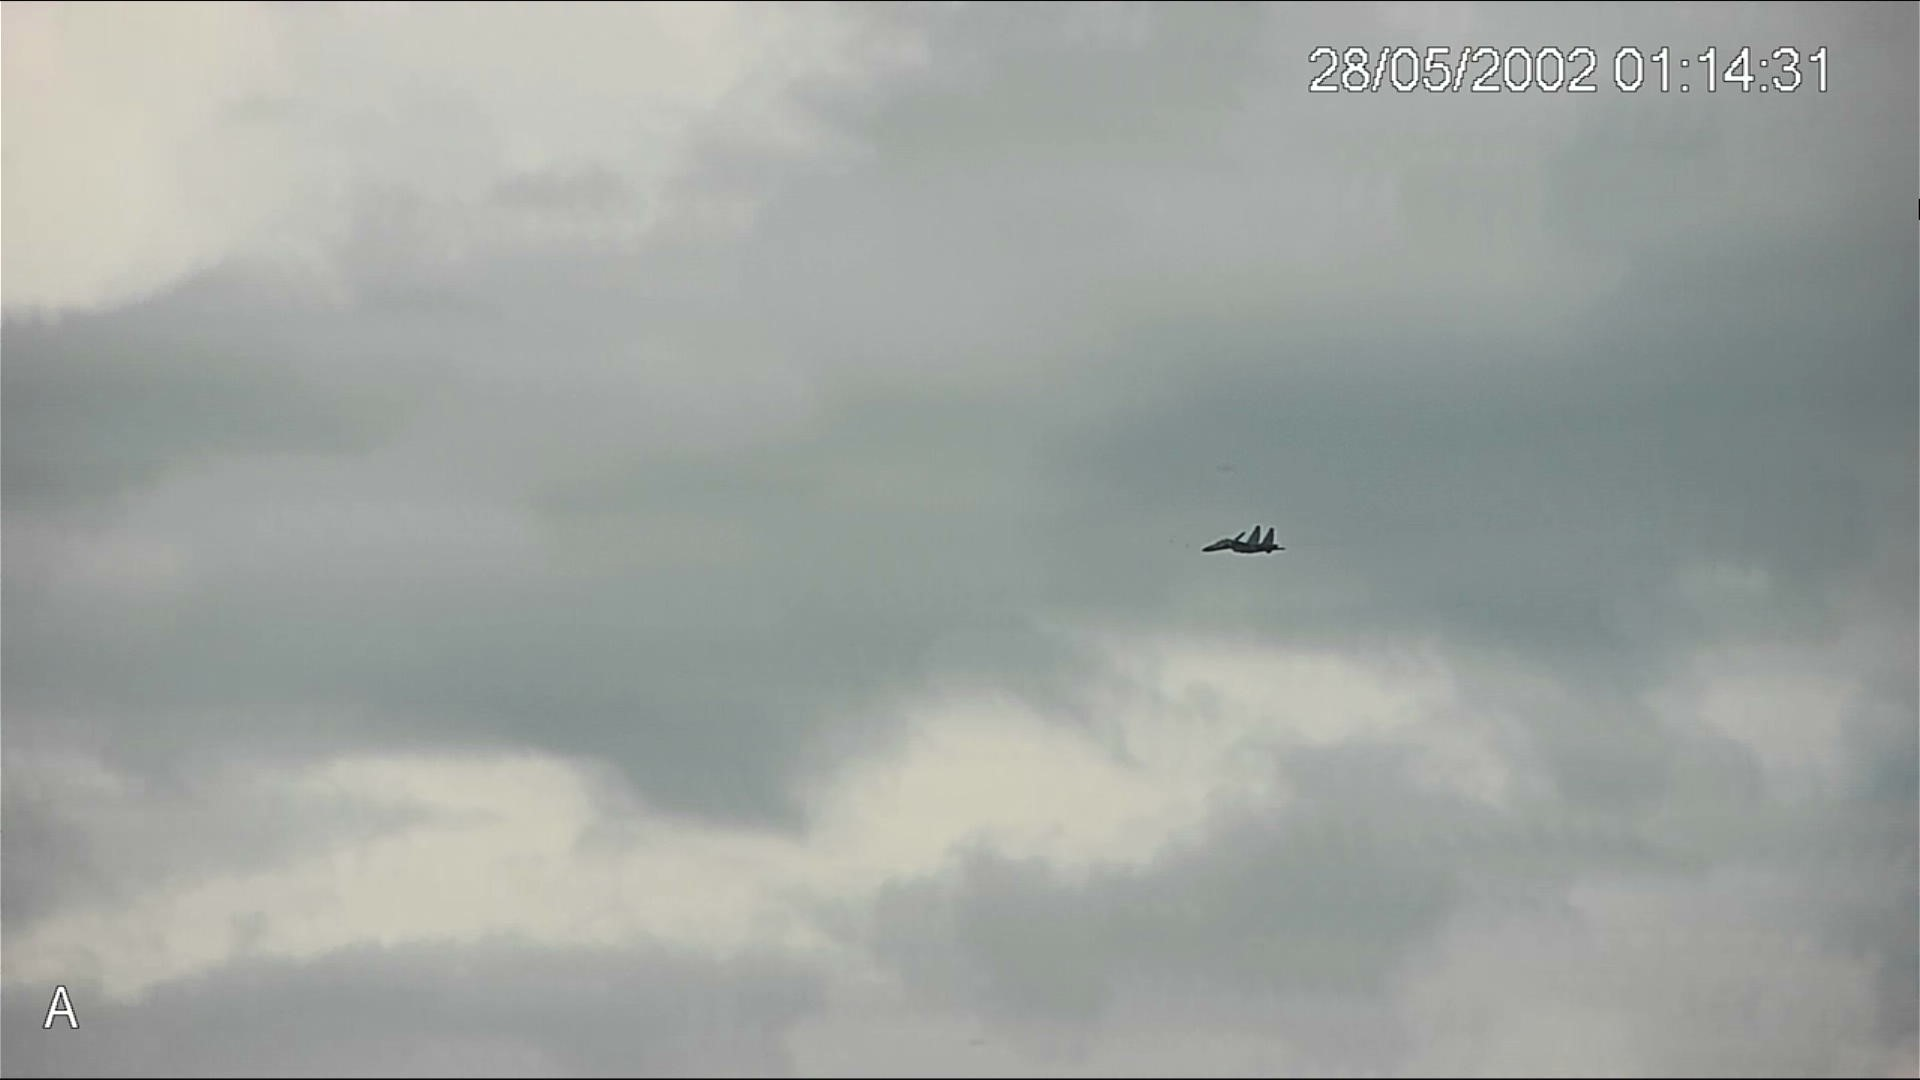SU_30: (1199, 524, 1287, 560)
